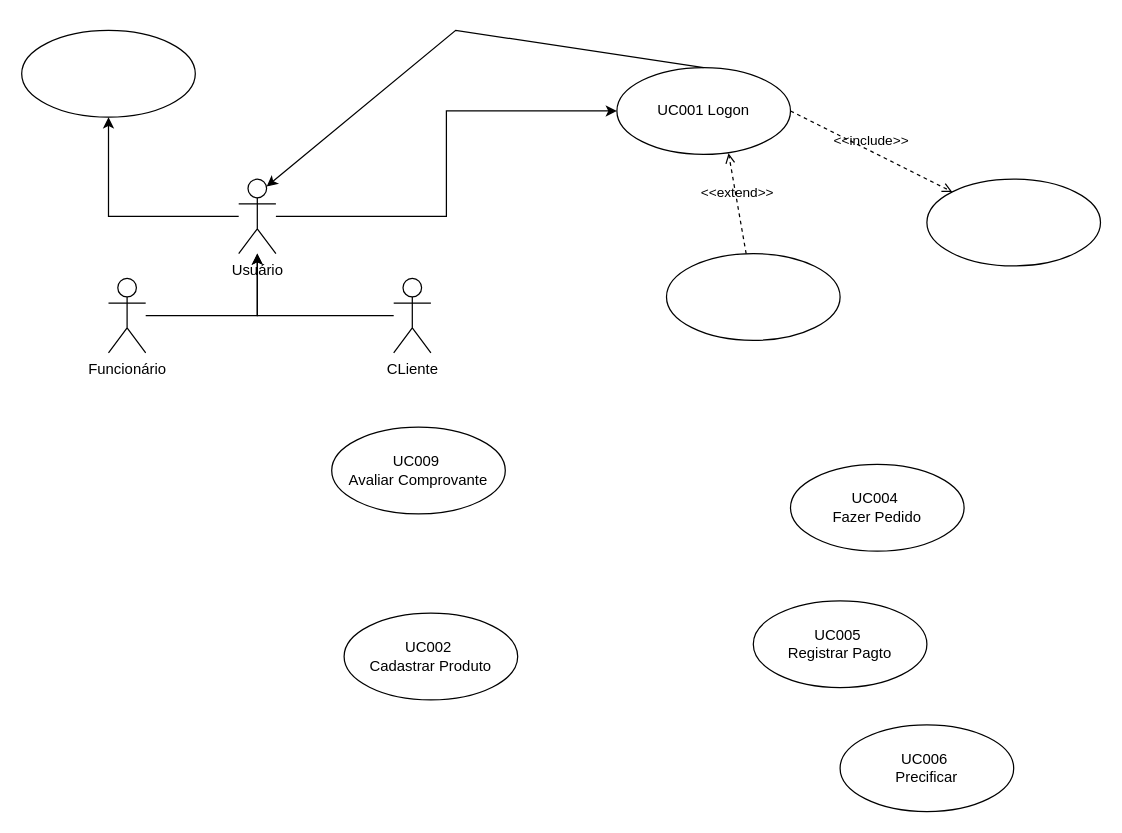
Some shapes in this 1122 by 833 pixel diagram are drawn without their labels. The shapes that lost their labels are listed below. From the top down, each one's box as (x1, y1, x2, y2) in pixels, then its label:
(20, 29, 195, 117): UC003 Cadastrar Cliente
(926, 178, 1100, 266): UC008 Validar Senha
(665, 252, 840, 340): UC007 Esqueci Senha
